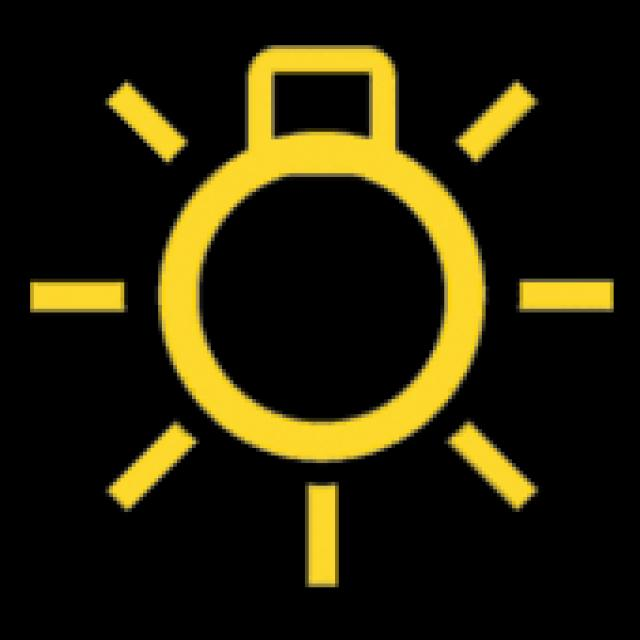kontrolka: (28, 35, 628, 606)
